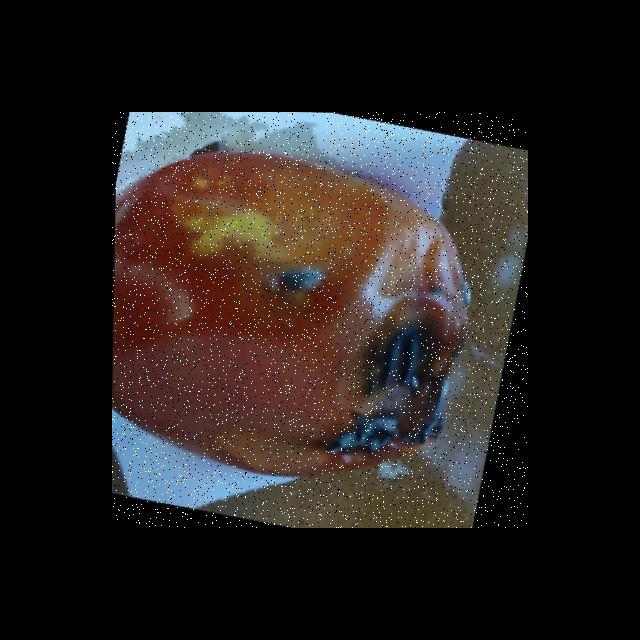tomato: (112, 142, 477, 487)
